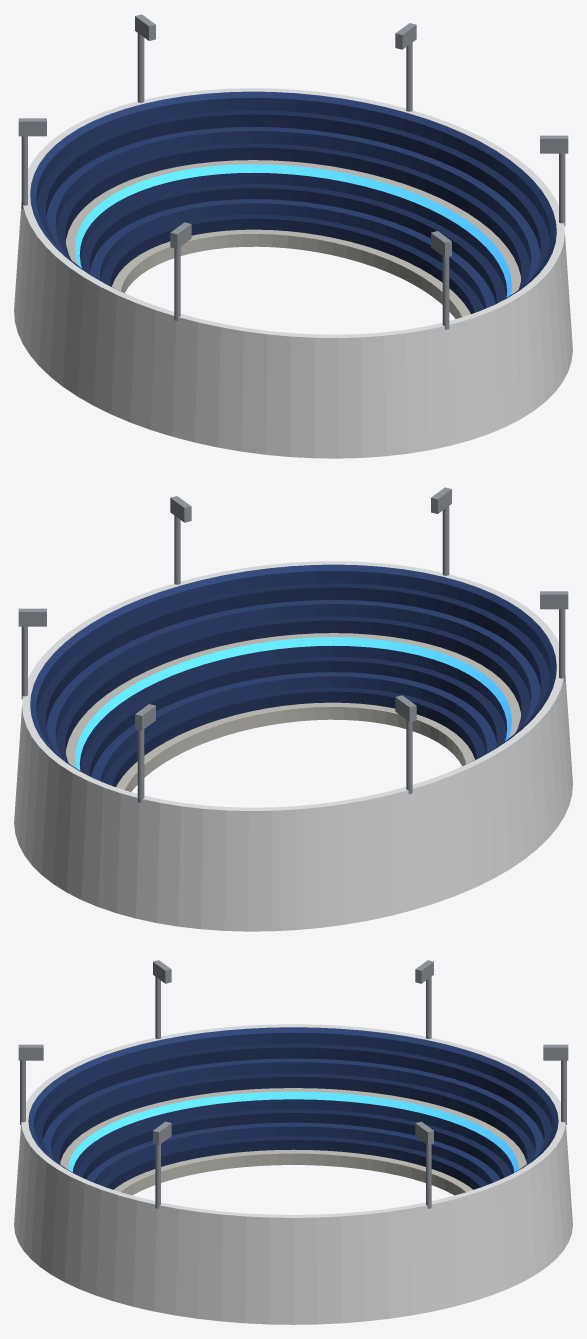
Rendered from venue_bowl.glb.
The picture shows the model from 3 angles, top to bottom: view 1: azimuth 30°, elevation 25°; view 2: azimuth 150°, elevation 25°; view 3: azimuth 270°, elevation 25°; orthographic projection. The views are drawn at different scales.
Visible parts, largest first — view 1: bowl, Cylinder.004; view 2: bowl, Cylinder.001; view 3: bowl.
Part boxes in pixels (box(x1,y1,x2,y2)): bowl: box(14, 88, 572, 458); Cylinder.004: box(442, 256, 449, 329); bowl: box(14, 561, 572, 931); Cylinder.001: box(137, 729, 144, 802); bowl: box(14, 1024, 572, 1324).
Bounding box in the file's own units: 13.16 × 5.49 × 15.56.
